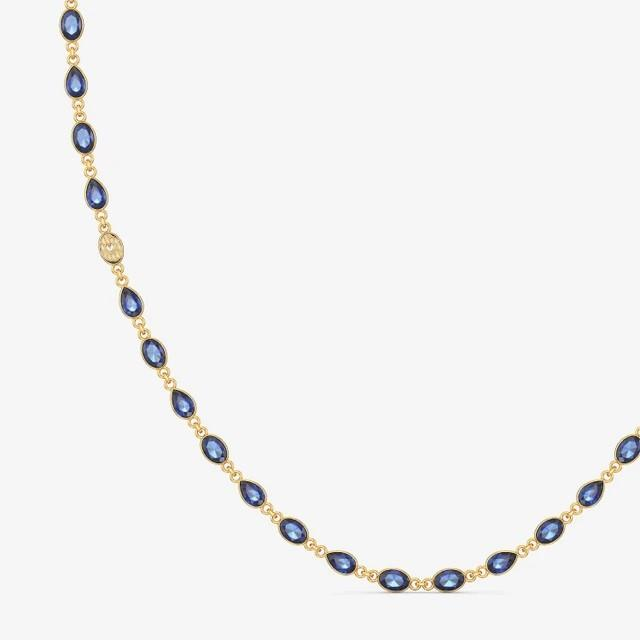missing gem: (100, 234, 123, 264)
